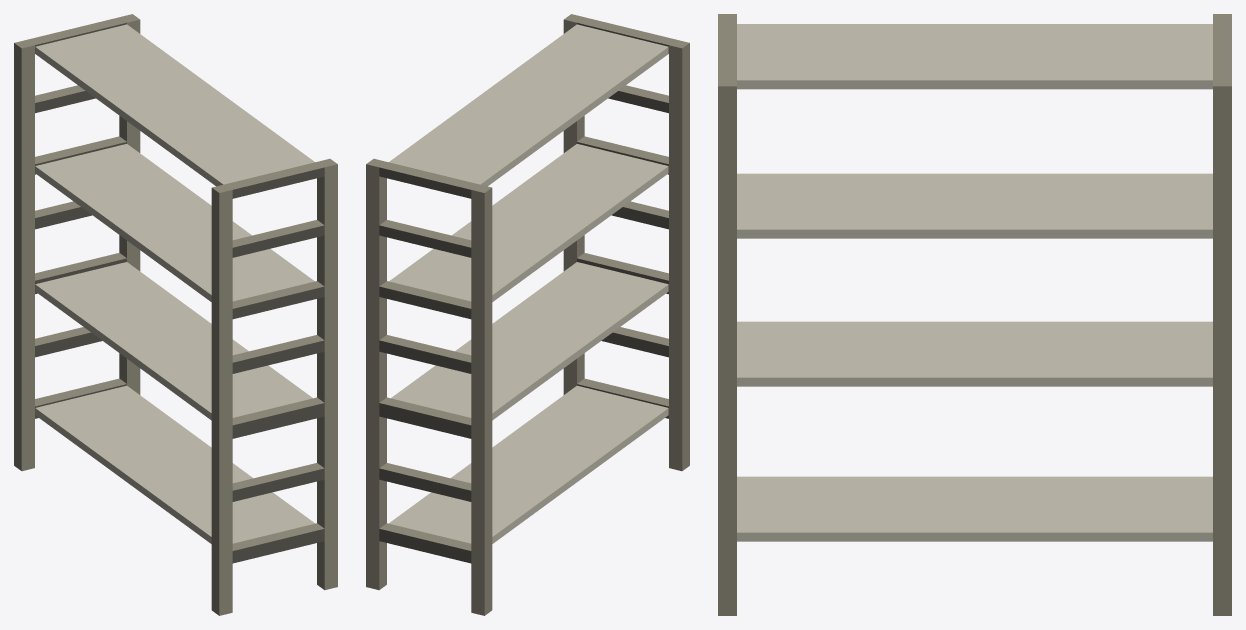
The model's file is Stellagekast.fbx.
3 renders of one model, left to right at view 1: azimuth 30°, elevation 25°; view 2: azimuth 150°, elevation 25°; view 3: azimuth 270°, elevation 25°, orthographic. The views are drawn at different scales.
Visible parts, largest first — view 1: pCube20; view 2: pCube20; view 3: pCube20.
Part boxes in pixels (x1,y1,x2,y2): pCube20: (14,14,337,615); pCube20: (366,14,689,615); pCube20: (718,14,1231,615).
Size of the model in its own units: 223 by 761 by 670.
